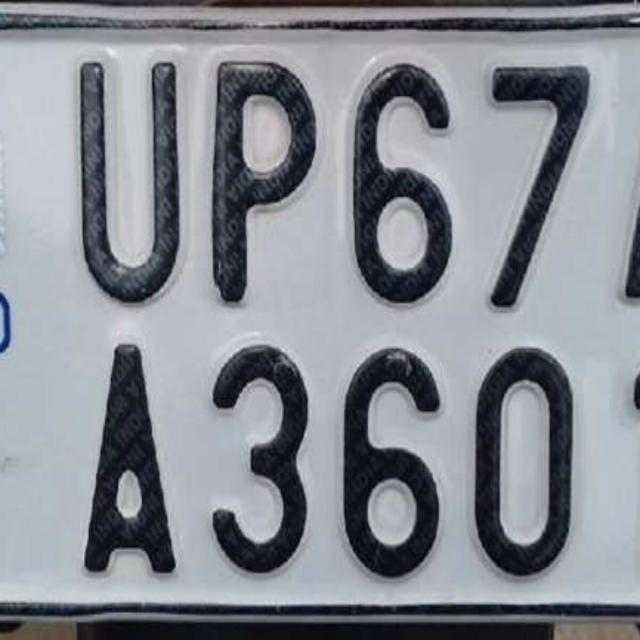License_Plate: (0, 0, 640, 613)
